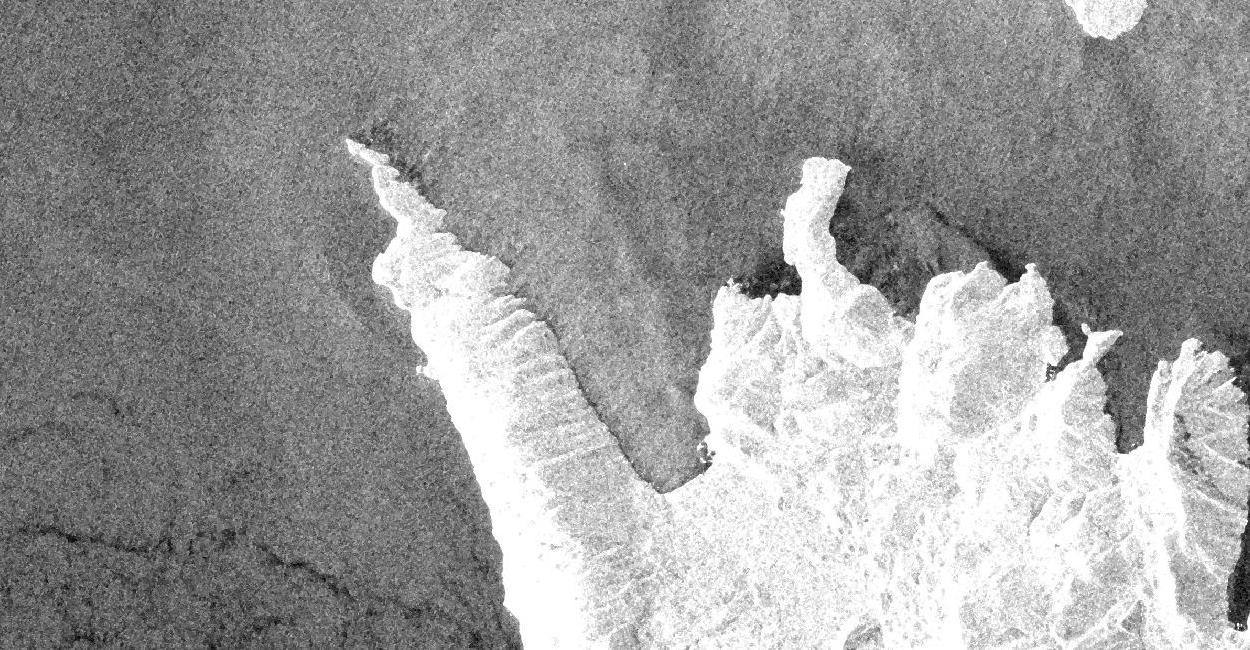Look-alike: (12, 190, 1250, 624)
